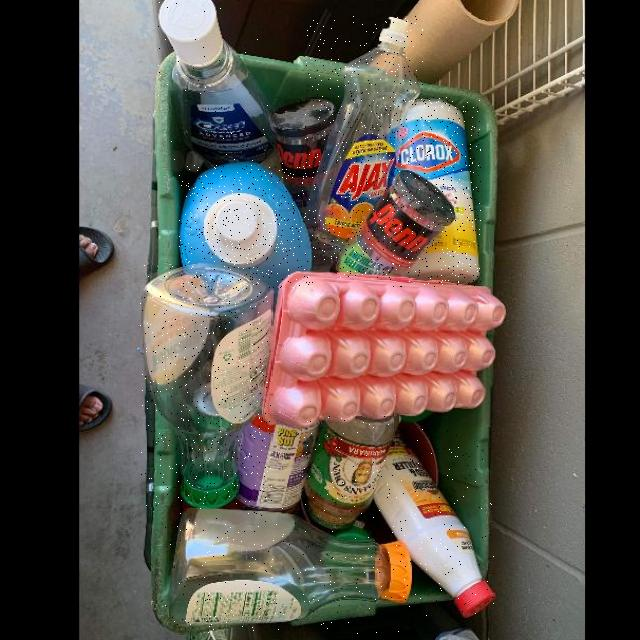glass: (141, 265, 272, 507), (164, 509, 413, 634), (158, 0, 277, 165), (302, 416, 397, 530)
metal: (337, 171, 454, 279)
plastic: (305, 16, 423, 260), (376, 428, 494, 618), (179, 161, 316, 288), (391, 98, 481, 287)
